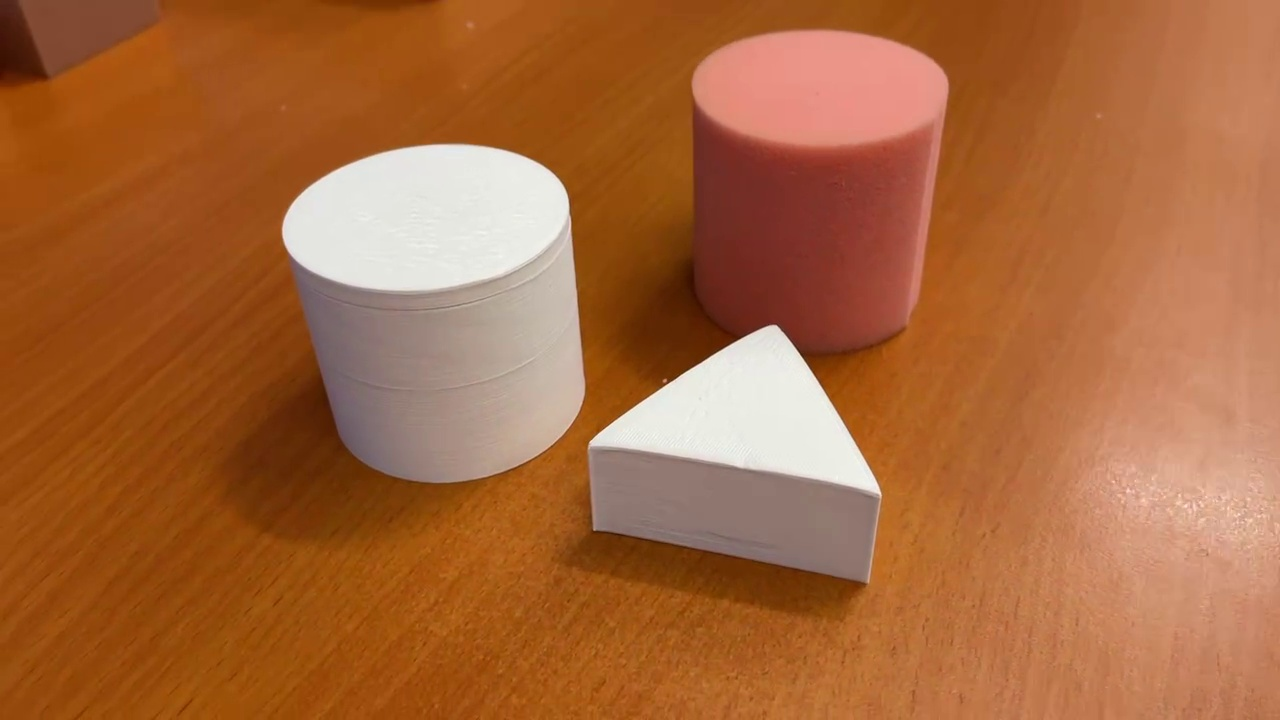Cylinder: (271, 134, 595, 490), (682, 22, 956, 364)
Triangle_short: (575, 321, 885, 588)
